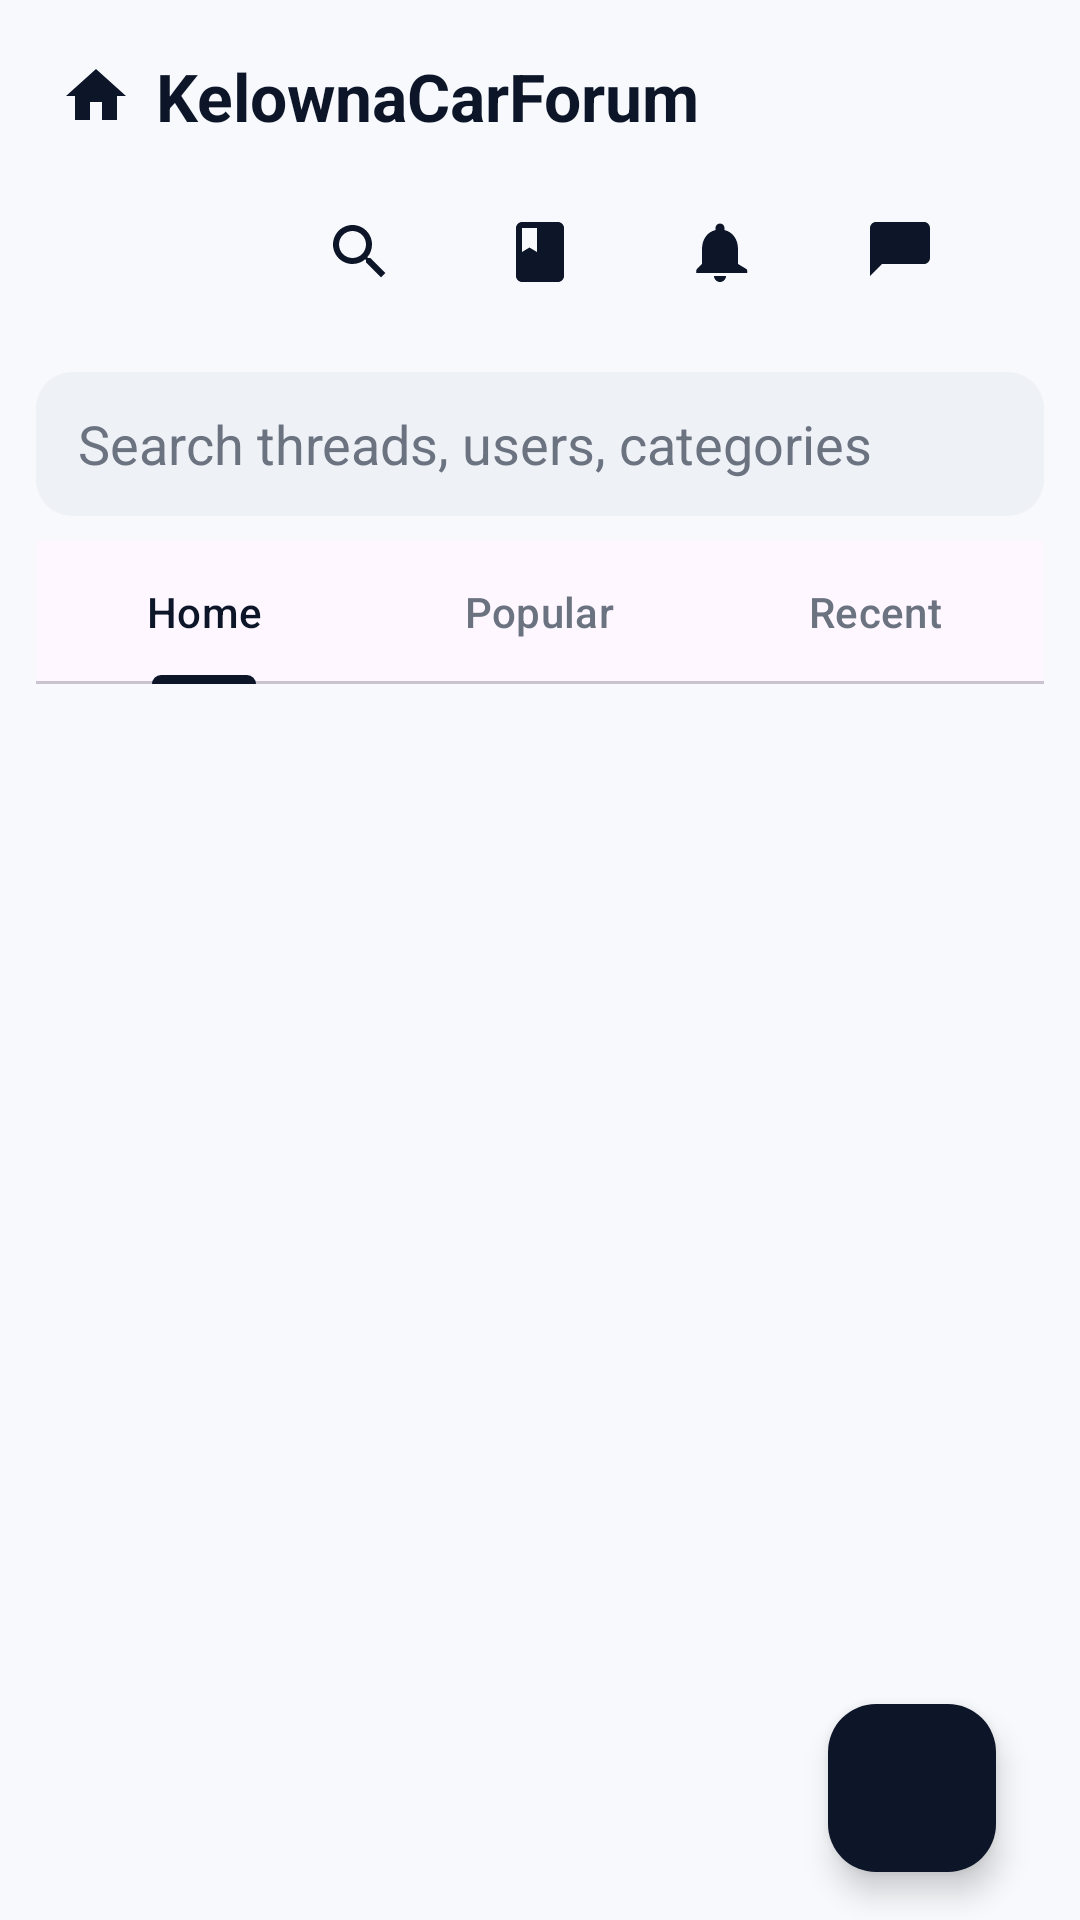

Icon click points for this 1080 × 1920 phone screenshot, format (x,y):
bell: (722,252)
home: (96,94)
message: (900,249)
